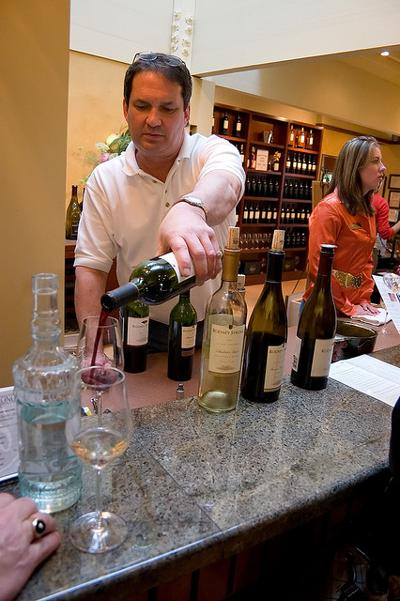person: (74, 51, 247, 383)
